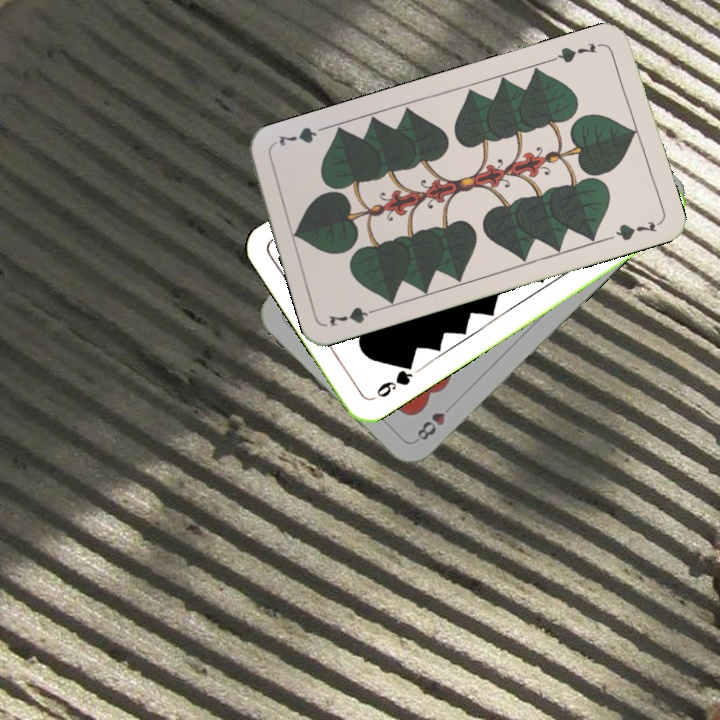G7: (324, 302, 383, 329), (548, 39, 599, 66)
G9: (368, 358, 416, 403)
H8: (413, 398, 457, 443)
